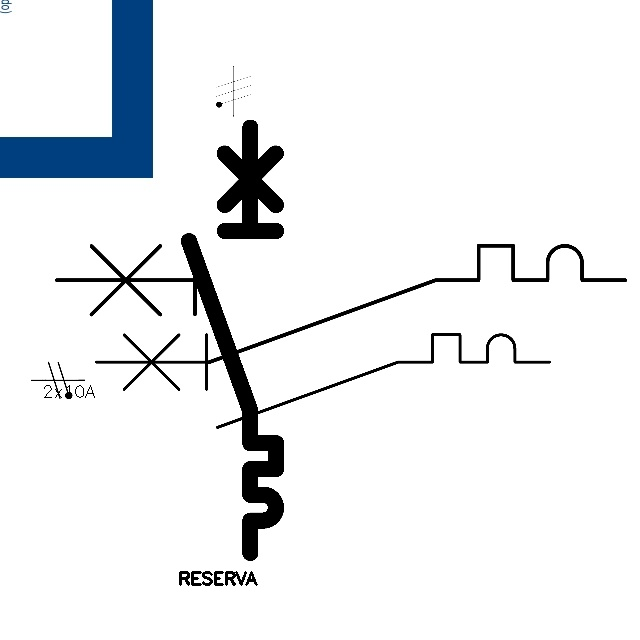interruptor_termomagnetico: (42, 231, 640, 377), (84, 323, 560, 439), (178, 116, 287, 564)
